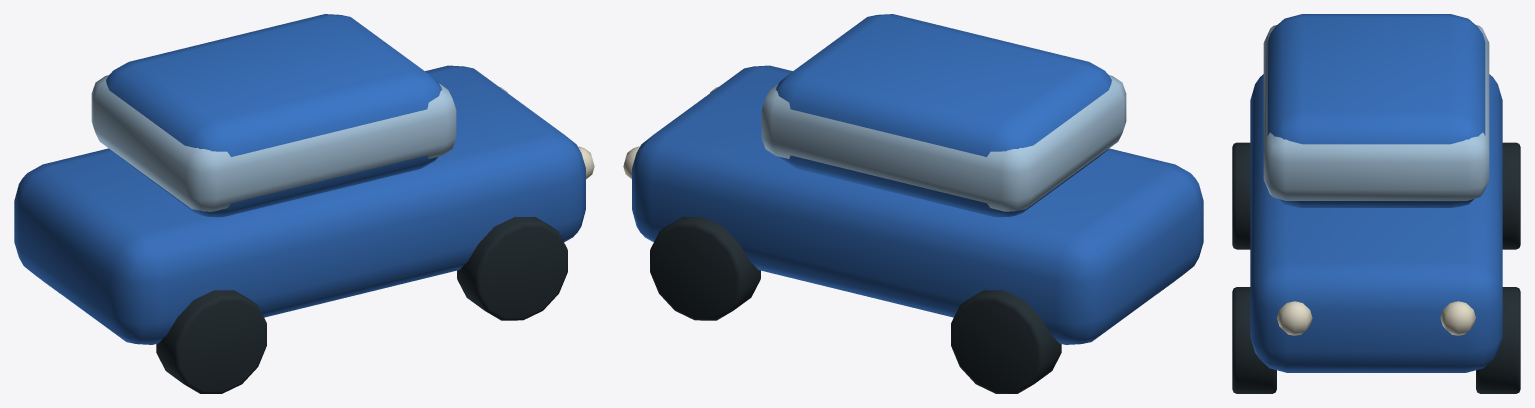
The model's file is prop_car_blue.glb.
3 renders of one model, left to right at view 1: azimuth 30°, elevation 25°; view 2: azimuth 150°, elevation 25°; view 3: azimuth 270°, elevation 25°, orthographic.
Parts seen in each view (by area): view 1: prop_car_blue, Glass_prop_car_blue; view 2: prop_car_blue, Glass_prop_car_blue; view 3: prop_car_blue, Glass_prop_car_blue.
Part boxes in pixels (x1,y1,x2,y2): prop_car_blue: (14, 14, 594, 393); Glass_prop_car_blue: (91, 75, 456, 211); prop_car_blue: (623, 14, 1203, 393); Glass_prop_car_blue: (761, 75, 1126, 211); prop_car_blue: (1232, 14, 1520, 393); Glass_prop_car_blue: (1263, 24, 1489, 200).
Bounding box in the file's own units: 3.72 × 1.78 × 1.94.
